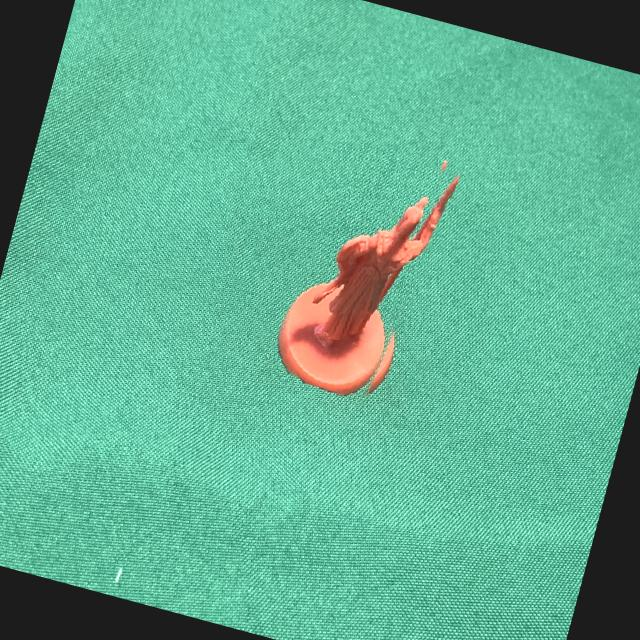amon_follower: (278, 173, 459, 396)
